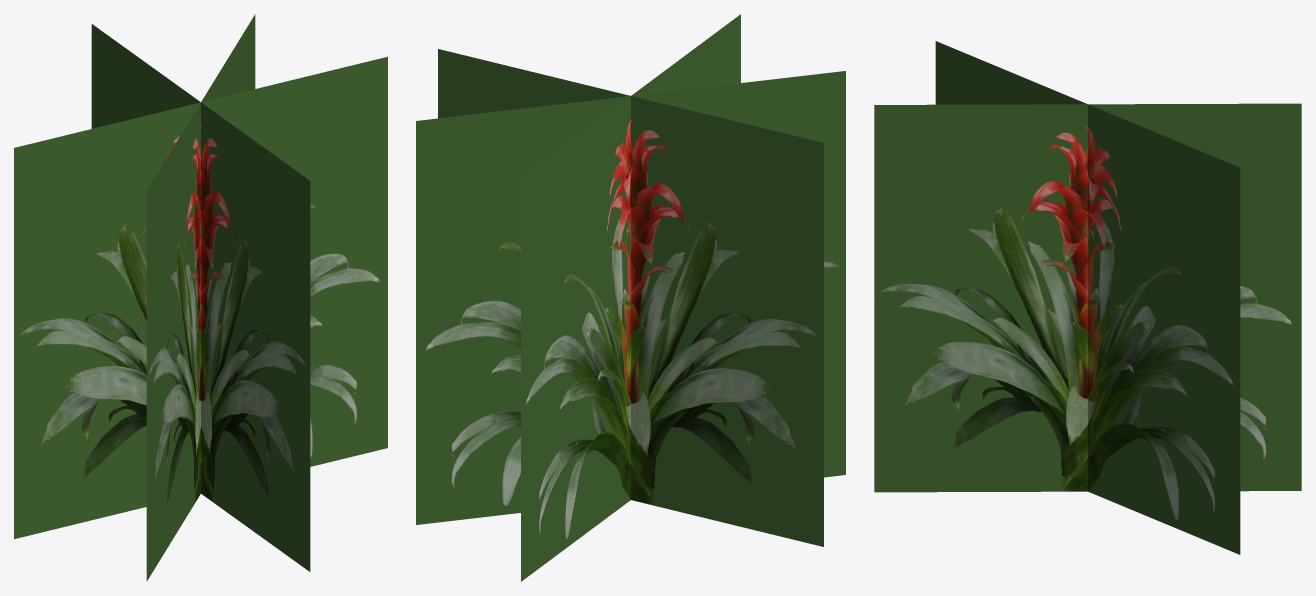
Rendered from gs_flower17.glb.
3 renders of one model, left to right at view 1: azimuth 30°, elevation 25°; view 2: azimuth 150°, elevation 25°; view 3: azimuth 270°, elevation 25°, orthographic. The views are drawn at different scales.
Visible parts, largest first — view 1: Plane01; view 2: Plane01; view 3: Plane01.
Part boxes in pixels (x1,y1,x2,y2): Plane01: (14,14,387,581); Plane01: (416,14,845,581); Plane01: (874,41,1301,554).
Size of the model in its own units: 60 by 60 by 60.
Materials: 1 (1 with a texture image).
